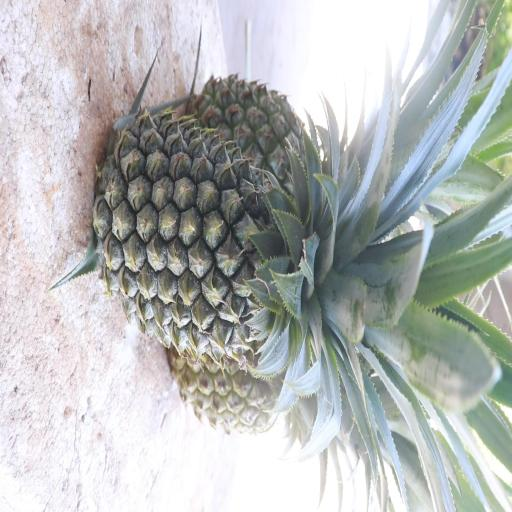------------------------------: (169, 342, 402, 481)
